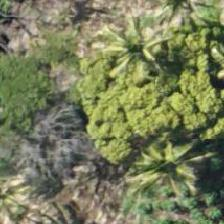coconut_tree: (125, 119, 215, 209), (90, 9, 180, 99)
